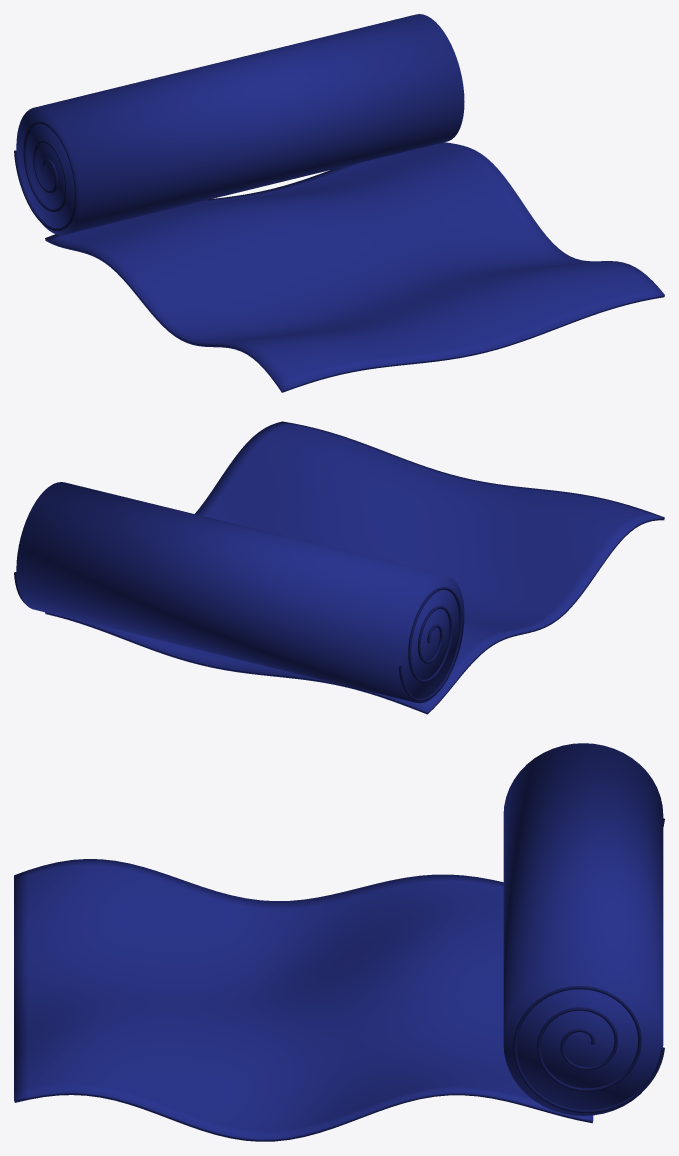
The picture shows the model from 3 angles, top to bottom: view 1: azimuth 30°, elevation 25°; view 2: azimuth 150°, elevation 25°; view 3: azimuth 270°, elevation 25°; orthographic projection. The views are drawn at different scales.
Visible parts, largest first — view 1: TI009 / editable draped woven sheet, TI009 / rolled cloth body, TI009 / visible spiral selvage; view 2: TI009 / rolled cloth body, TI009 / editable draped woven sheet, TI009 / visible spiral selvage; view 3: TI009 / editable draped woven sheet, TI009 / rolled cloth body, TI009 / visible spiral selvage.001.
Boxes of the visible parts, left/top/right/bottom form: TI009 / editable draped woven sheet: left=45, top=142, right=664, bottom=392; TI009 / rolled cloth body: left=16, top=14, right=464, bottom=235; TI009 / visible spiral selvage: left=14, top=121, right=77, bottom=231; TI009 / rolled cloth body: left=16, top=482, right=464, bottom=703; TI009 / editable draped woven sheet: left=45, top=421, right=664, bottom=714; TI009 / visible spiral selvage: left=398, top=587, right=462, bottom=701; TI009 / editable draped woven sheet: left=14, top=859, right=593, bottom=1141; TI009 / rolled cloth body: left=503, top=743, right=663, bottom=1115; TI009 / visible spiral selvage.001: left=513, top=986, right=664, bottom=1113.
Size of the model in its own units: 2.73 by 0.9428 by 3.26.
